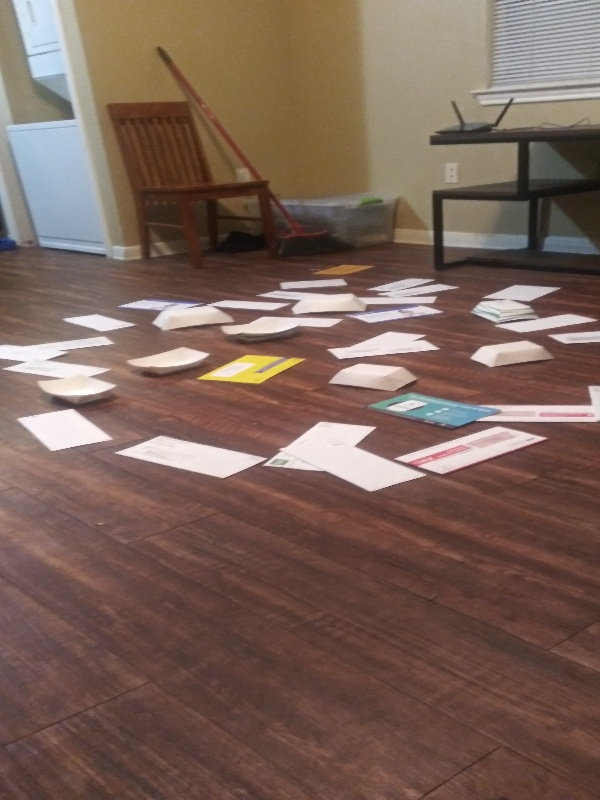plate: (324, 360, 427, 393), (35, 370, 123, 408), (122, 344, 214, 379), (466, 337, 558, 371), (215, 317, 304, 346), (152, 304, 238, 333), (467, 295, 543, 326), (290, 290, 371, 317)
